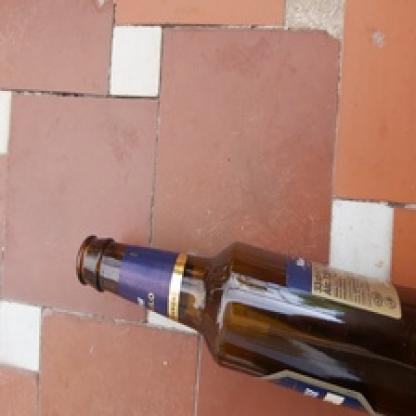Can: (65, 232, 416, 416)
